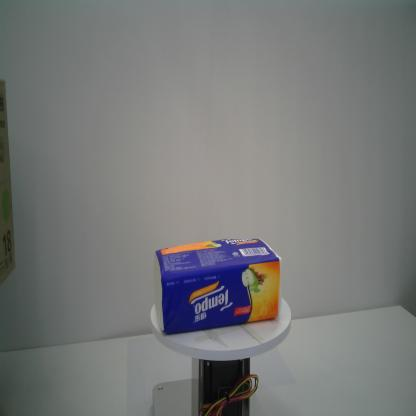Tissue: (154, 238, 283, 334)
